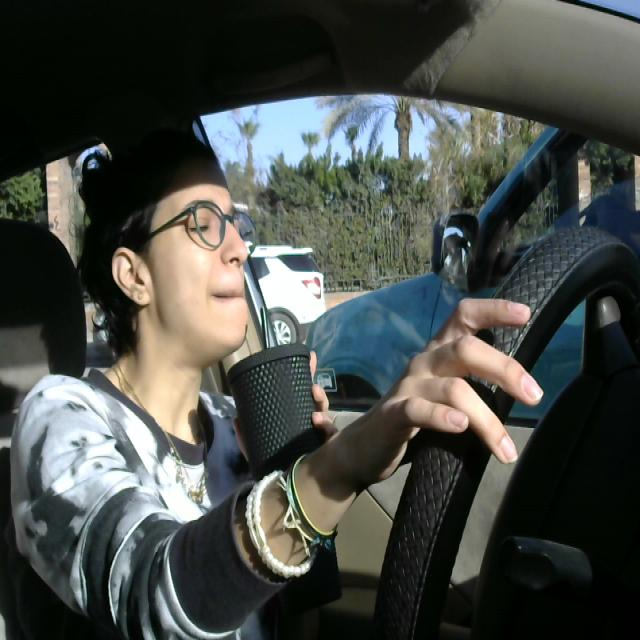drinking: (214, 304, 369, 602)
